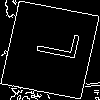L: (25, 25, 80, 62)
